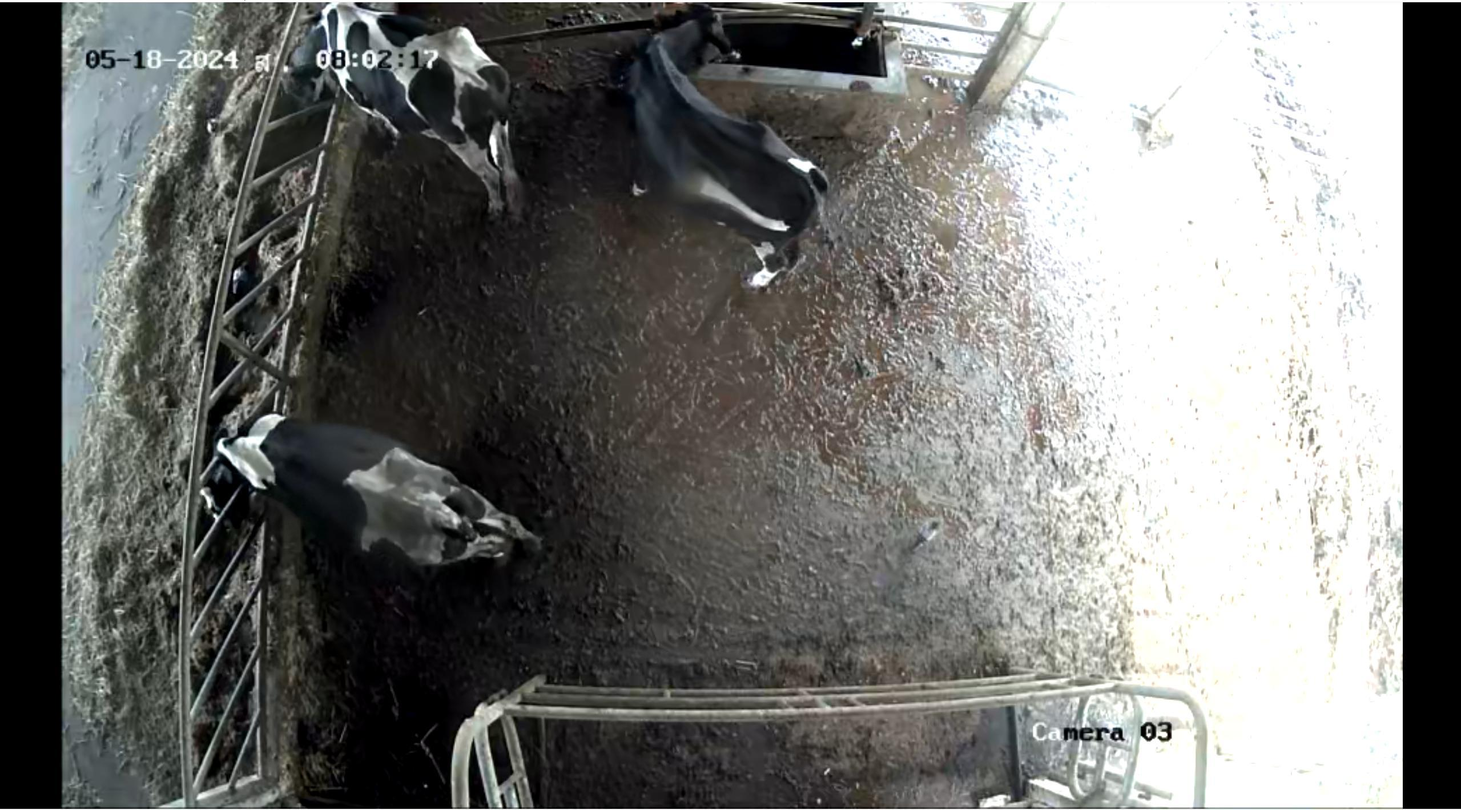drink: (631, 3, 754, 114)
eat: (152, 398, 339, 531), (240, 7, 401, 114)
